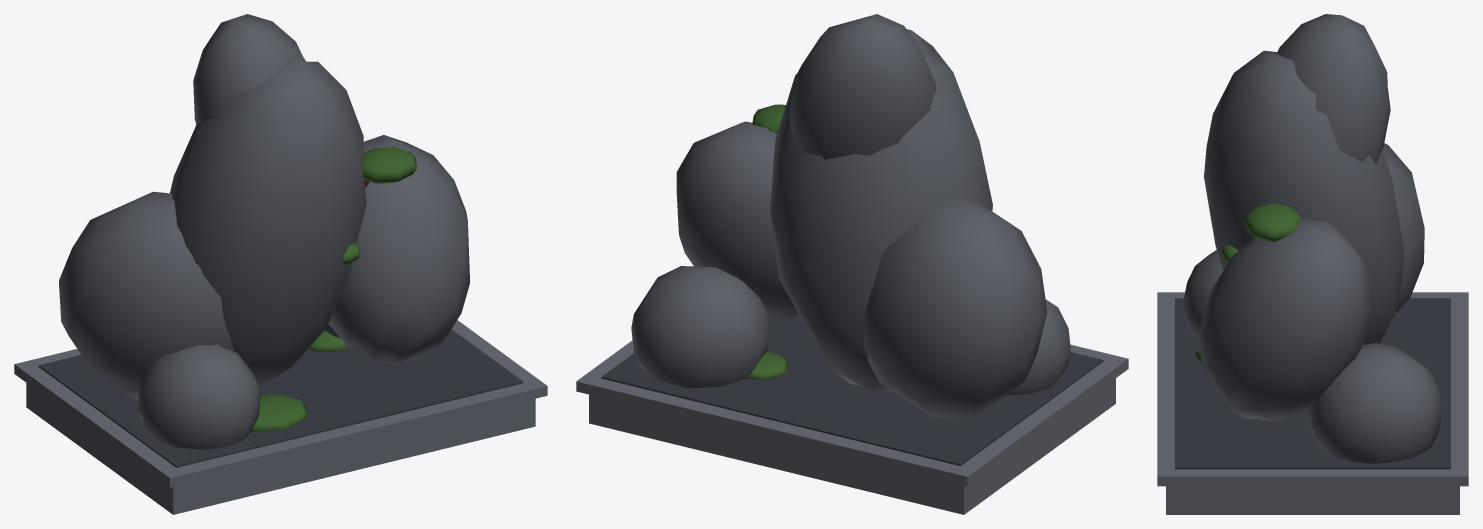
Rendered from pal1-courtyard-rockery.glb.
3 renders of one model, left to right at view 1: azimuth 30°, elevation 25°; view 2: azimuth 150°, elevation 25°; view 3: azimuth 270°, elevation 25°, orthographic. The views are drawn at different scales.
Visible parts, largest first — view 1: Pal1TaihuRockery; view 2: Pal1TaihuRockery; view 3: Pal1TaihuRockery.
Part boxes in pixels (x1,y1,x2,y2): Pal1TaihuRockery: (14,14,547,514); Pal1TaihuRockery: (576,14,1128,514); Pal1TaihuRockery: (1157,14,1468,514).
Size of what is drawn, in the model's own units: 2.48 by 2.45 by 1.75.
